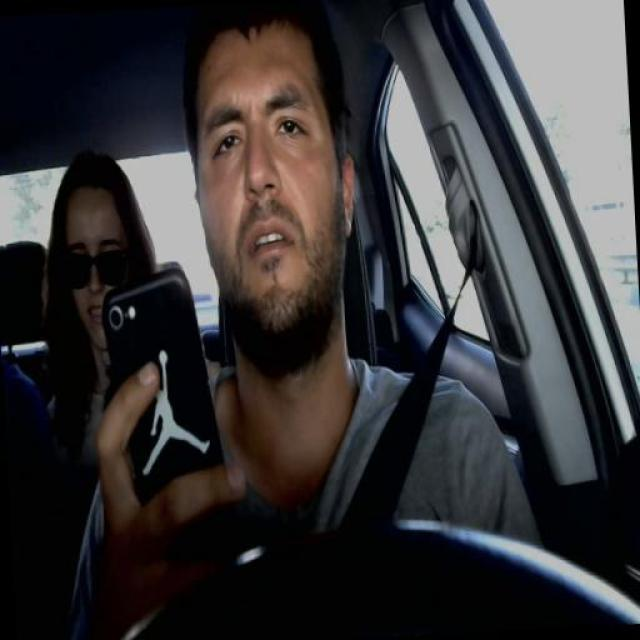phone: (99, 262, 227, 524)
